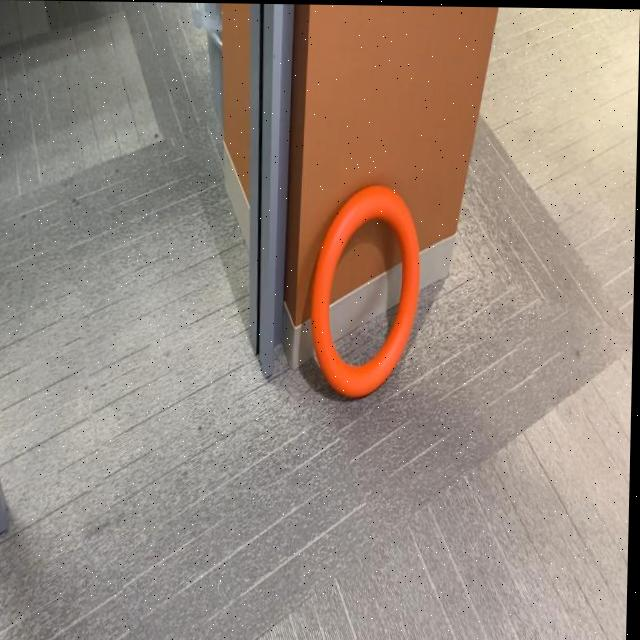note: (308, 179, 424, 400)
